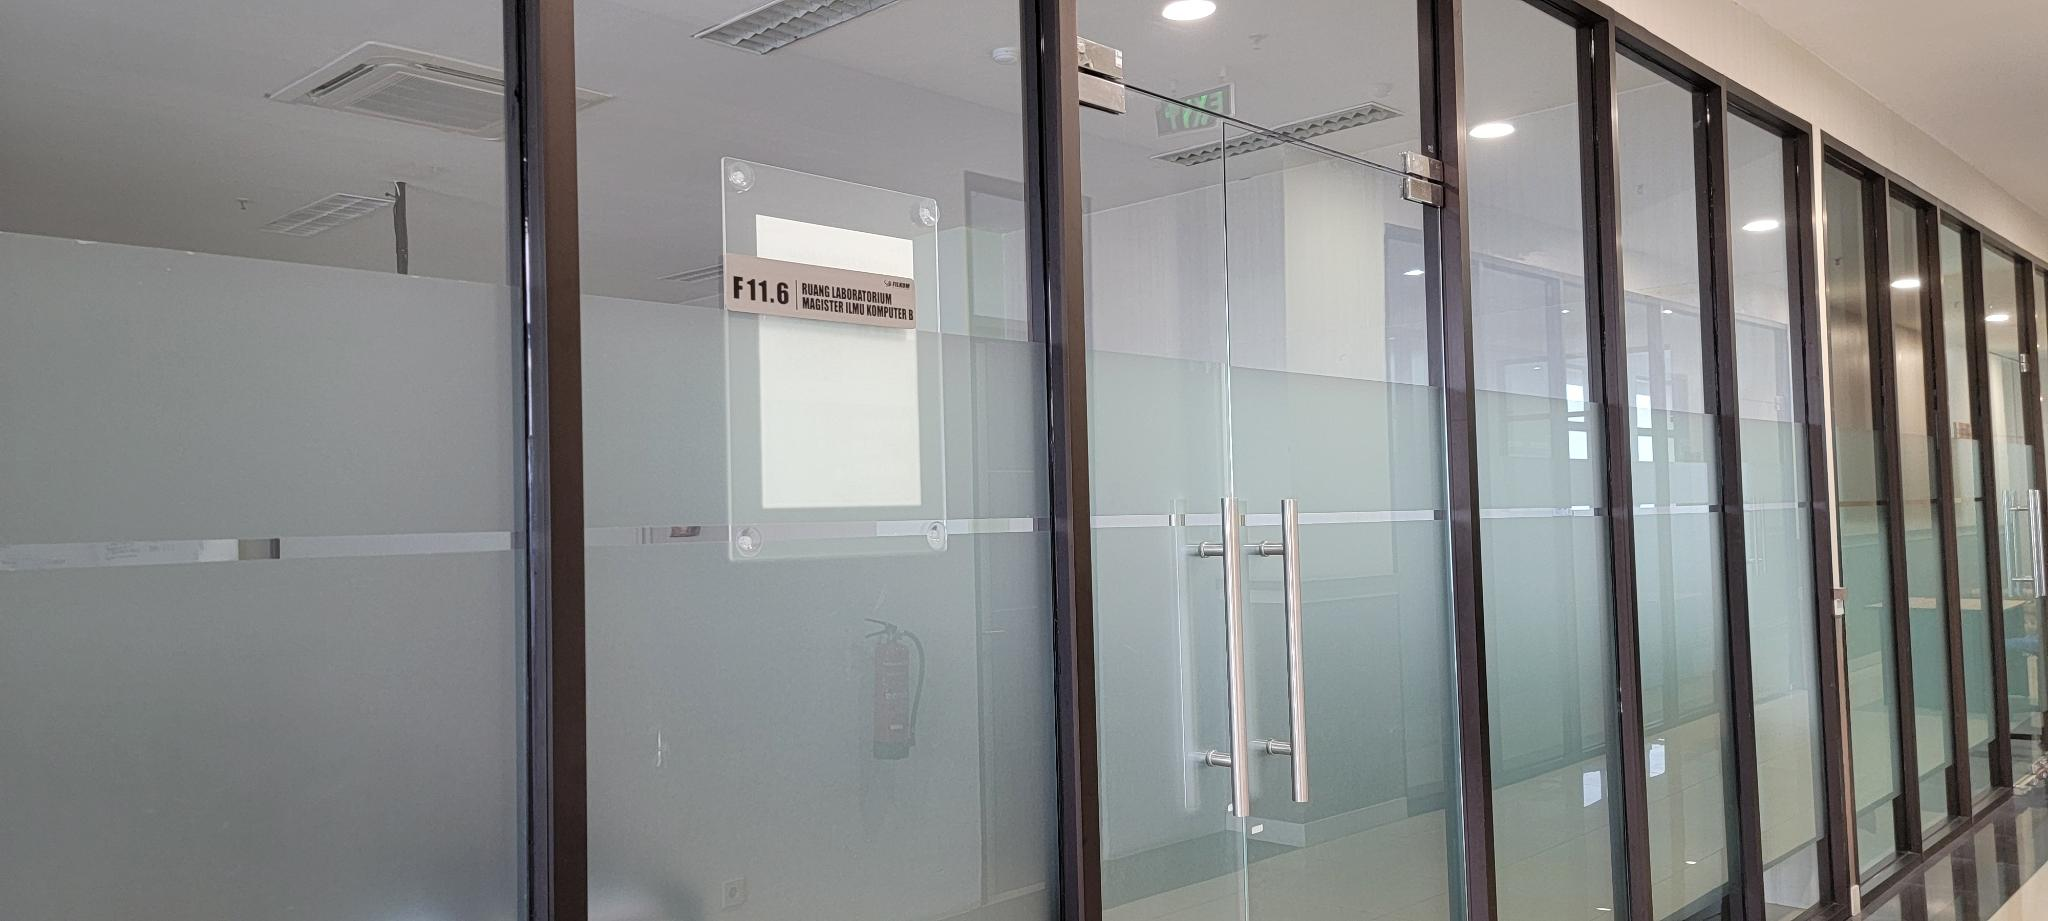plate: (728, 257, 917, 331)
